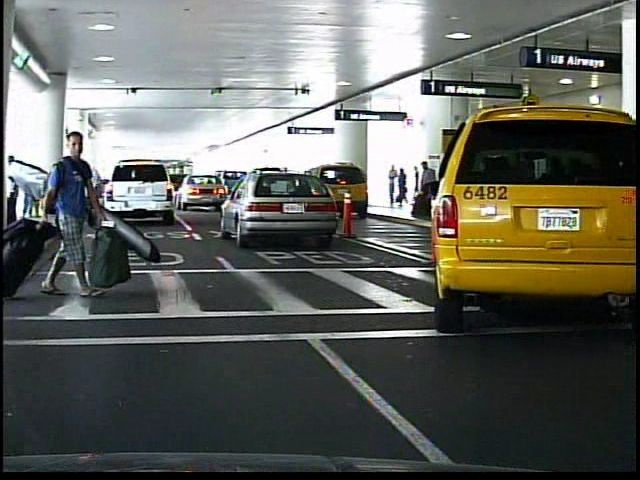person: (45, 121, 108, 312), (414, 160, 436, 217), (385, 165, 397, 208), (397, 166, 407, 208)
